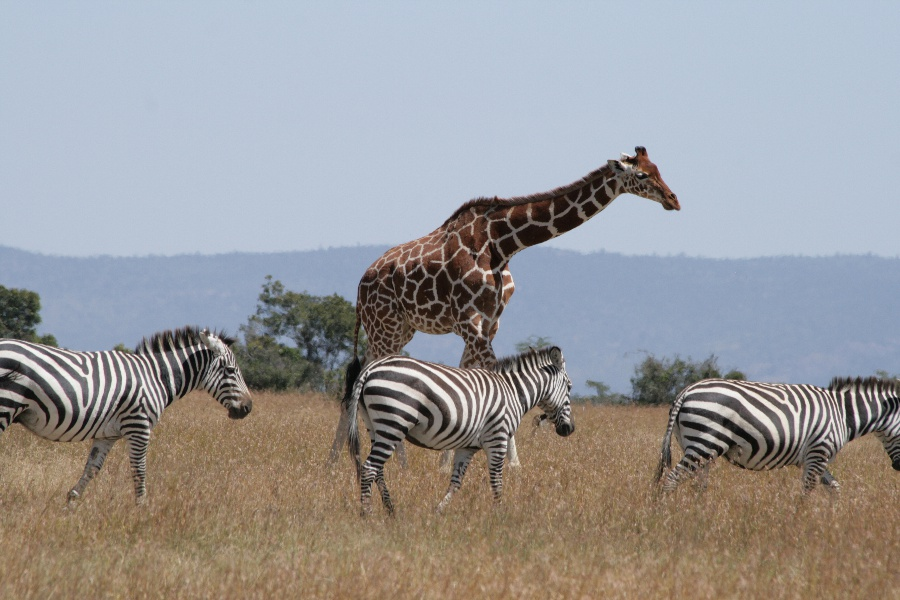giraffe: (351, 138, 687, 361)
